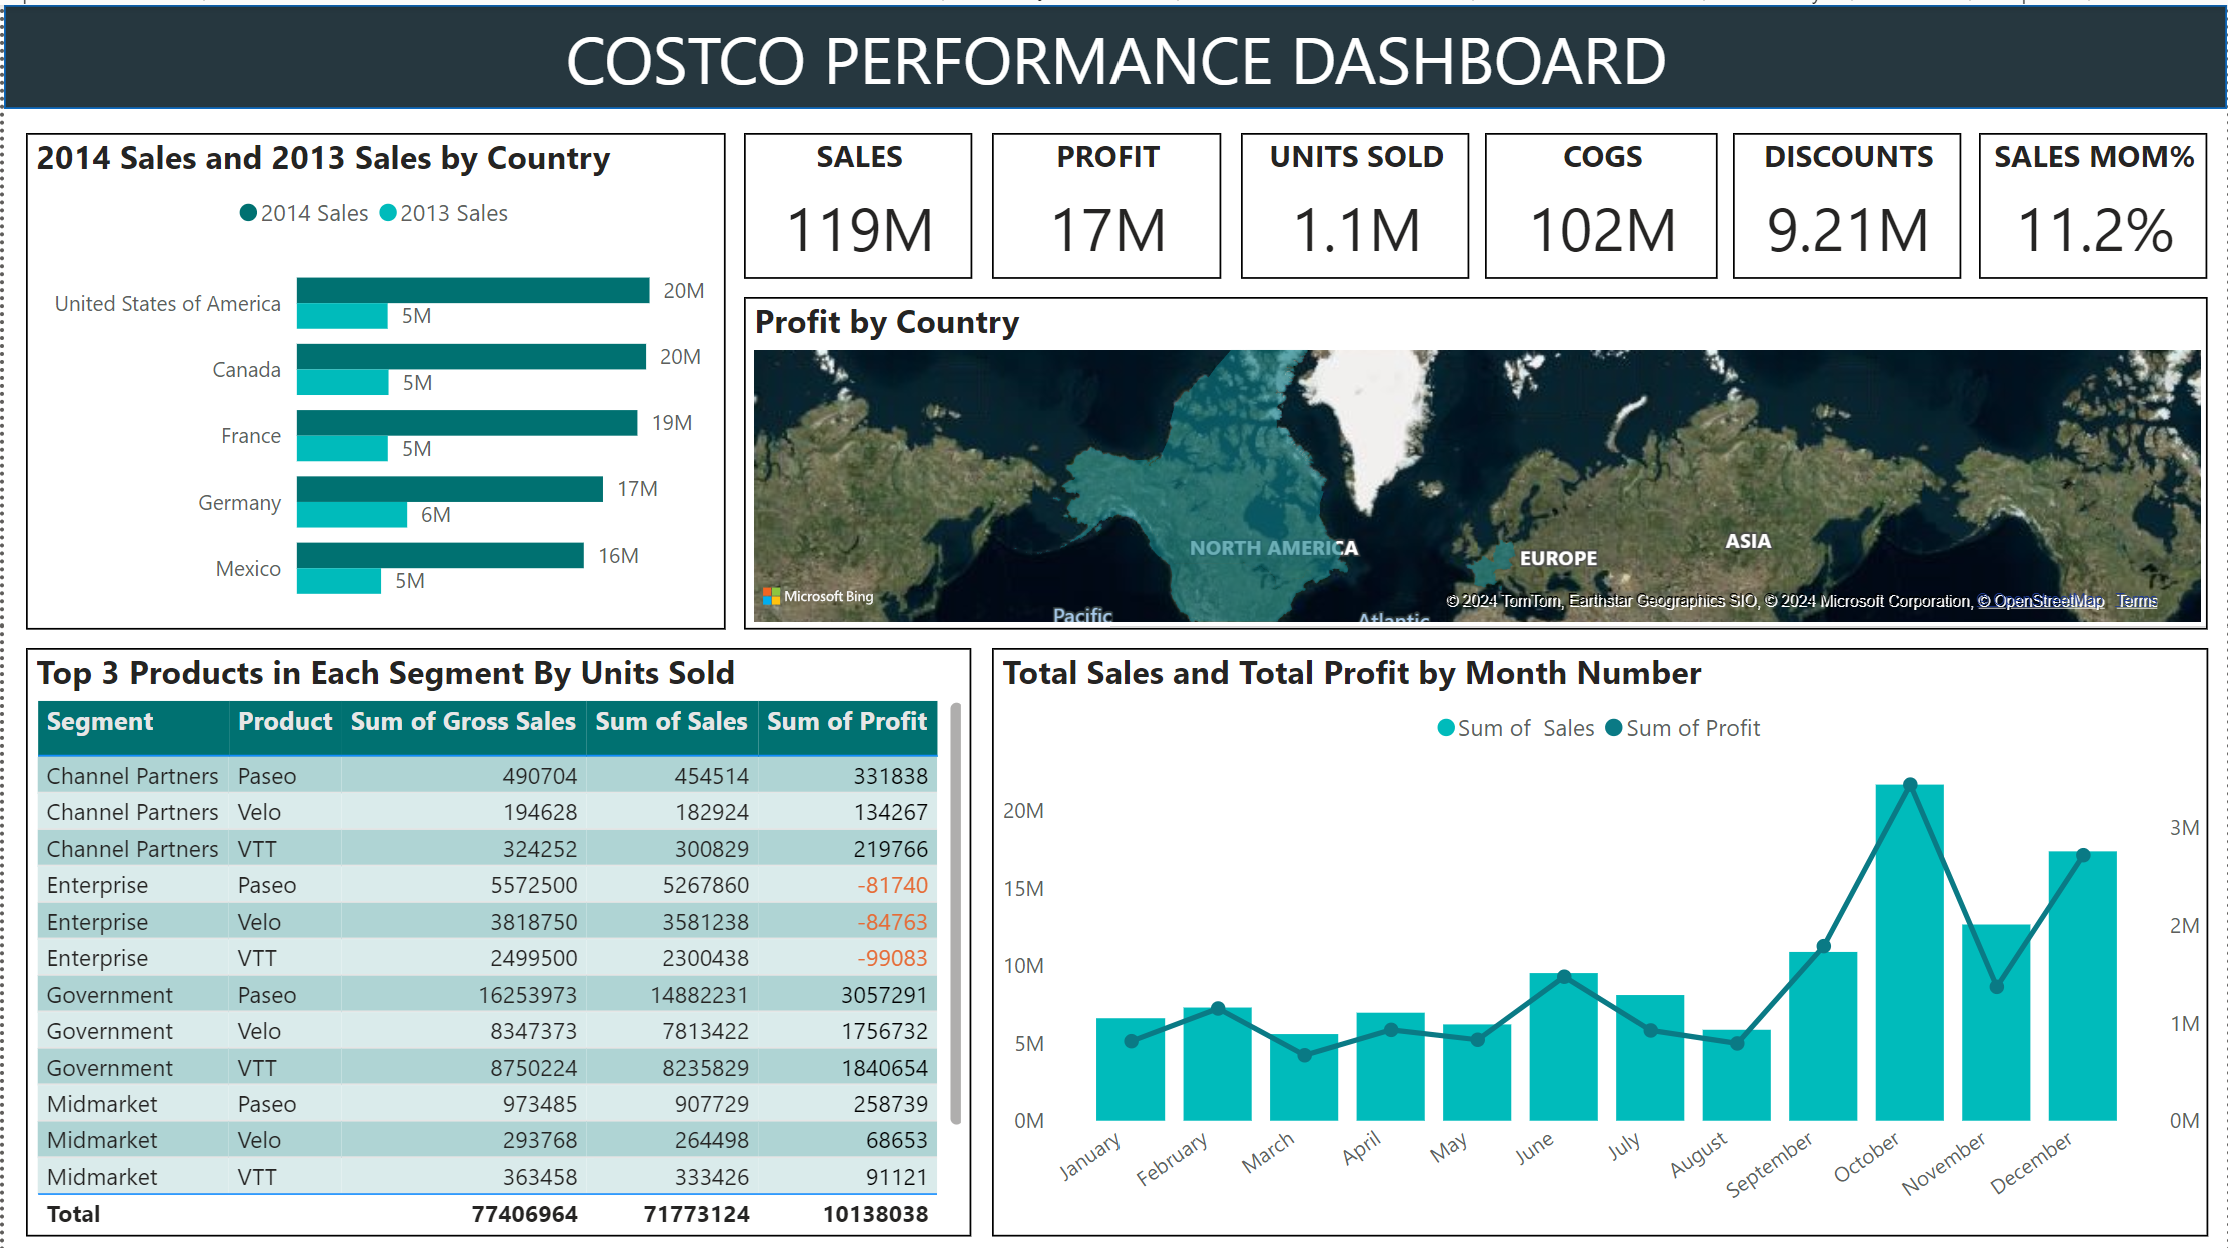

This screenshot's page, from the dashboard's own definition file:
{"tool":"powerbi","page":{"name":"Page 1","canvas":[1280,720],"ordinal":0},"visuals":[{"type":"textbox","box":[0,0,1279.9,73.7],"z":0},{"type":"shape","box":[0,0,1279.9,59.9],"z":1000},{"type":"textbox","box":[218.9,0,843.3,77.2],"z":2000},{"type":"clusteredBarChart","fields":{"Category":["financials.Country"],"Y":["financials.2014 Sales","financials.2013 Sales"]},"box":[12.7,73.9,402.9,285.6],"z":3000},{"type":"tableEx","title":"Top 3 Products in Each Segment By Units Sold","fields":{"Values":["financials.Segment","financials.Product","Sum(financials.Gross Sales)","Sum(financials. Sales)","Sum(financials.Profit)"]},"box":[12.7,369.7,544.4,339.1],"z":4000},{"type":"card","title":"SALES","fields":{"Values":["Sum(financials. Sales)"]},"box":[425.8,73.9,131.3,84.1],"z":5000},{"type":"card","title":"PROFIT","fields":{"Values":["Sum(financials.Profit)"]},"box":[568.6,73.9,131.3,84.1],"z":6000},{"type":"card","title":"UNITS SOLD","fields":{"Values":["Sum(financials.Units Sold)"]},"box":[711.4,73.9,131.3,84.1],"z":7000},{"type":"card","title":"COGS","fields":{"Values":["Sum(financials.COGS)"]},"box":[852.9,73.9,133.9,84.1],"z":8000},{"type":"card","title":"DISCOUNTS","fields":{"Values":["Sum(financials.Discounts)"]},"box":[995.5,73.7,131.3,84.1],"z":9000},{"type":"card","title":"SALES MOM%","fields":{"Values":["financials.SalesMOM%"]},"box":[1137.2,73.9,131.3,84.1],"z":10000},{"type":"filledMap","title":"Profit by Country","fields":{"Category":["financials.Country"],"Y":["Sum(financials.Profit)"]},"box":[425.8,168.3,842.7,191.2],"z":11000},{"type":"lineClusteredColumnComboChart","title":"Total Sales and Total Profit by Month Number","fields":{"Y":["Sum(financials. Sales)"],"Y2":["Sum(financials.Profit)"],"Category":["financials.Date.Variation.Date Hierarchy.Month"]},"box":[568.6,369.7,699.9,339.1],"z":12000}]}

Visuals, with their boxes in screenshot pixels (x1, y1, x2, y2), scaled from the page's 1280x720 canvas onto the 2228x1248 screenshot:
textbox: crop(0, 0, 2227, 128)
shape: crop(0, 0, 2227, 104)
textbox: crop(381, 0, 1849, 134)
clusteredBarChart - financials.Country x financials.2014 Sales: crop(22, 128, 723, 623)
"Top 3 Products in Each Segment By Units Sold" tableEx: crop(22, 641, 970, 1229)
"SALES" card: crop(741, 128, 970, 274)
"PROFIT" card: crop(990, 128, 1218, 274)
"UNITS SOLD" card: crop(1238, 128, 1467, 274)
"COGS" card: crop(1485, 128, 1718, 274)
"DISCOUNTS" card: crop(1733, 128, 1961, 274)
"SALES MOM%" card: crop(1979, 128, 2208, 274)
"Profit by Country" filledMap: crop(741, 292, 2208, 623)
"Total Sales and Total Profit by Month Number" lineClusteredColumnComboChart: crop(990, 641, 2208, 1229)
